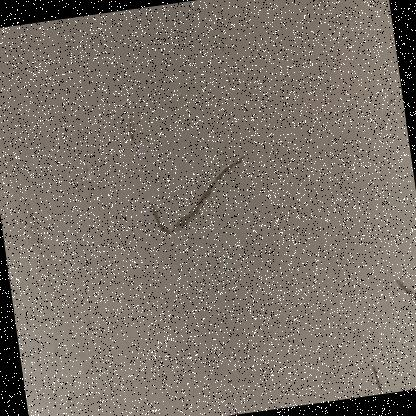Crack: (89, 66, 264, 288), (329, 232, 415, 398)
